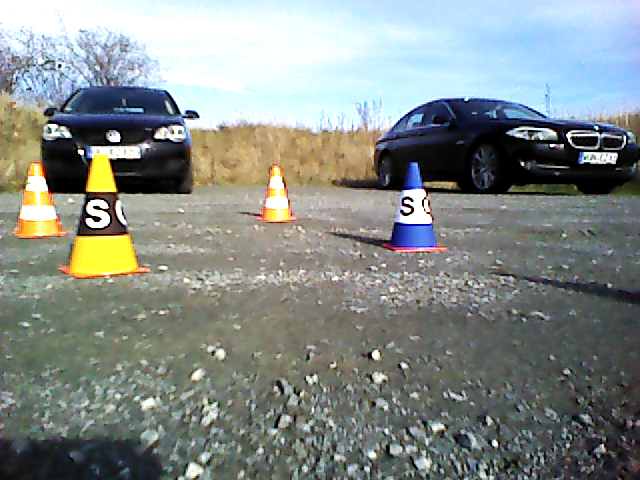bluecone: (394, 162, 435, 247)
orangeconesmall: (11, 161, 67, 237), (258, 165, 297, 222)
yellowcone: (69, 154, 137, 271)
